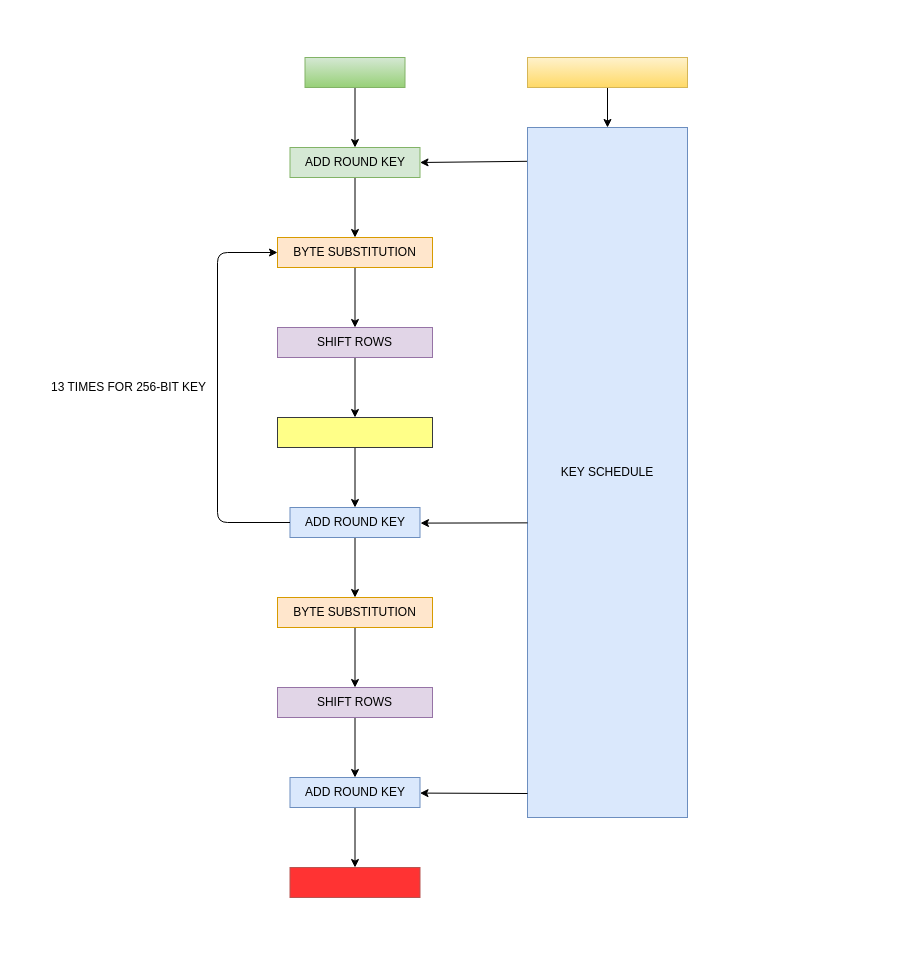
Some shapes in this 904 by 954 pixel diagram are drawn without their labels. The shapes that lost their labels are listed below. From the top down, each one's centre as x and y in pixels, then its label:
(x=354, y=72): PLAINTEXT
(x=607, y=72): CIPHER KEY (256 BITS)
(x=354, y=432): MIX COLUMNS
(x=354, y=882): CIPHER TEXT
